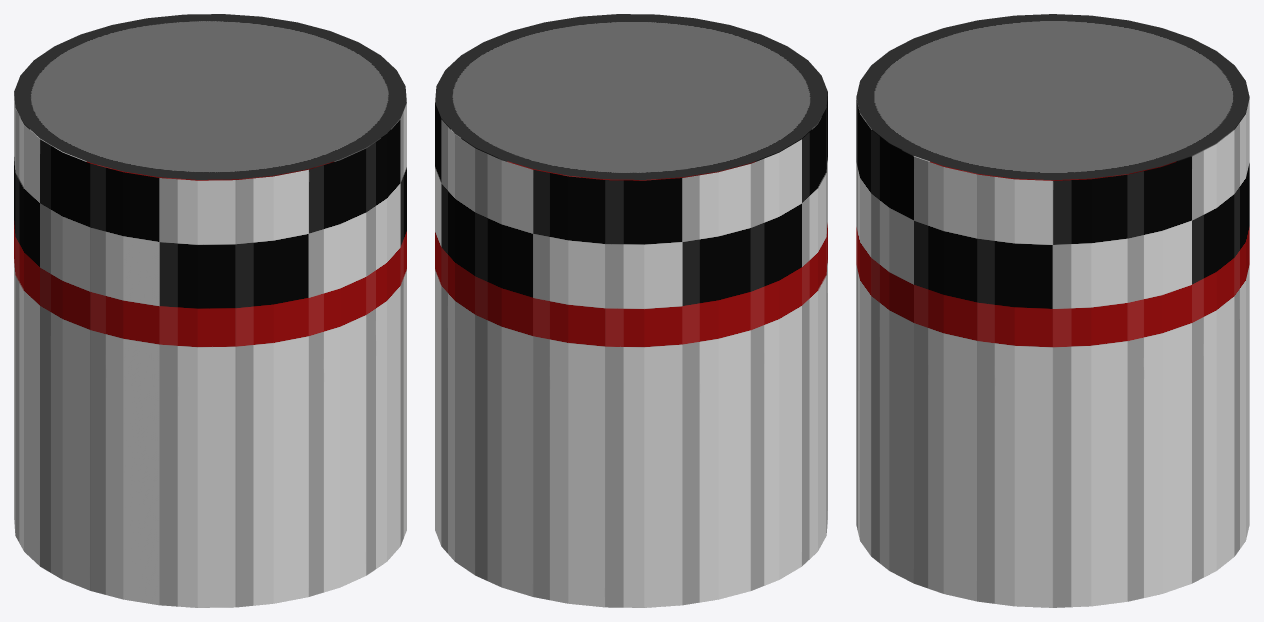
The model's file is 125short.fbx.
3 renders of one model, left to right at view 1: azimuth 30°, elevation 25°; view 2: azimuth 150°, elevation 25°; view 3: azimuth 270°, elevation 25°, orthographic.
Parts seen in each view (by area): view 1: Cylinder; view 2: Cylinder; view 3: Cylinder.
Part boxes in pixels (x1,y1,x2,y2): Cylinder: (14,14,406,607); Cylinder: (435,14,827,607); Cylinder: (856,14,1249,607).
Size of the model in its own units: 125 by 150 by 125.
